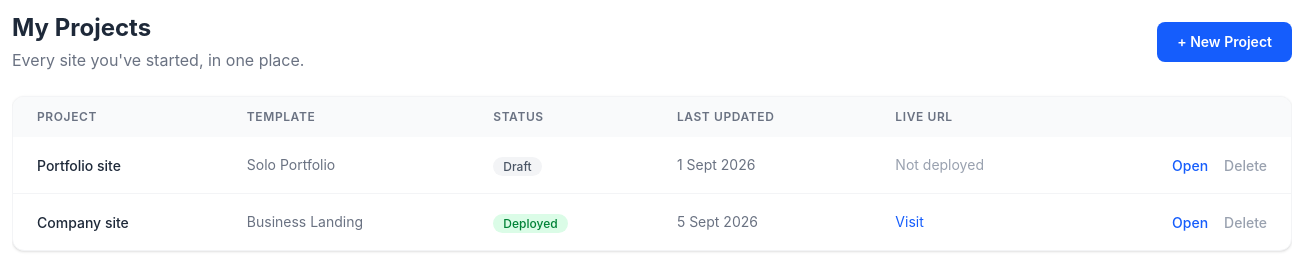
it: ProjectsPage › deletes a project after confirmation and drops the row
Step 1. Click the button "Delete" in the row of "Portfolio site" → [1246, 166], box [1224,156,1267,176]
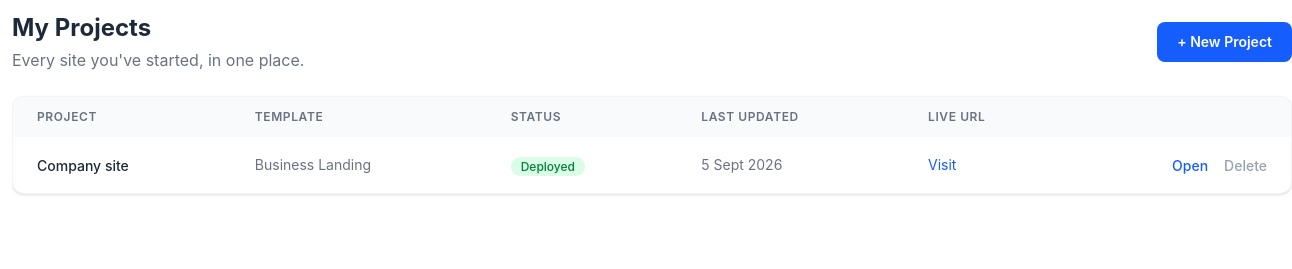
Expected: the link "Company site" is shown, [37,157,129,174]
Expected: the link "Portfolio site" is gone
